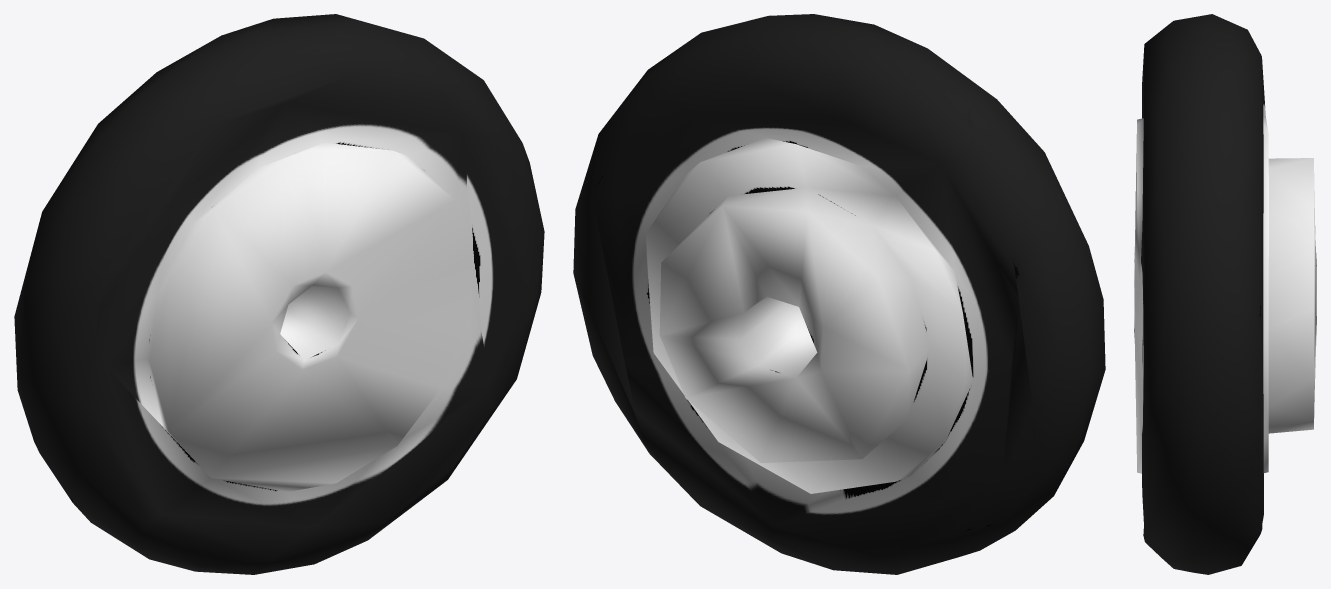
Rendered from fr_caster_r_wheel_link.OBJ.
3 renders of one model, left to right at view 1: azimuth 30°, elevation 25°; view 2: azimuth 150°, elevation 25°; view 3: azimuth 270°, elevation 25°, orthographic. The views are drawn at different scales.
Parts seen in each view (by area): view 1: /ambf/env/pr2/fr_caster_r_wheel_link_/ambf/env/pr2/fr_caster_r_w; view 2: /ambf/env/pr2/fr_caster_r_wheel_link_/ambf/env/pr2/fr_caster_r_w; view 3: /ambf/env/pr2/fr_caster_r_wheel_link_/ambf/env/pr2/fr_caster_r_w.
Part boxes in pixels (box(x1,y1,x2,y2)): /ambf/env/pr2/fr_caster_r_wheel_link_/ambf/env/pr2/fr_caster_r_w: box(14, 14, 544, 574); /ambf/env/pr2/fr_caster_r_wheel_link_/ambf/env/pr2/fr_caster_r_w: box(573, 14, 1105, 574); /ambf/env/pr2/fr_caster_r_wheel_link_/ambf/env/pr2/fr_caster_r_w: box(1134, 14, 1316, 574).
Size of the model in its own units: 0.1593 by 0.1588 by 0.0515.
